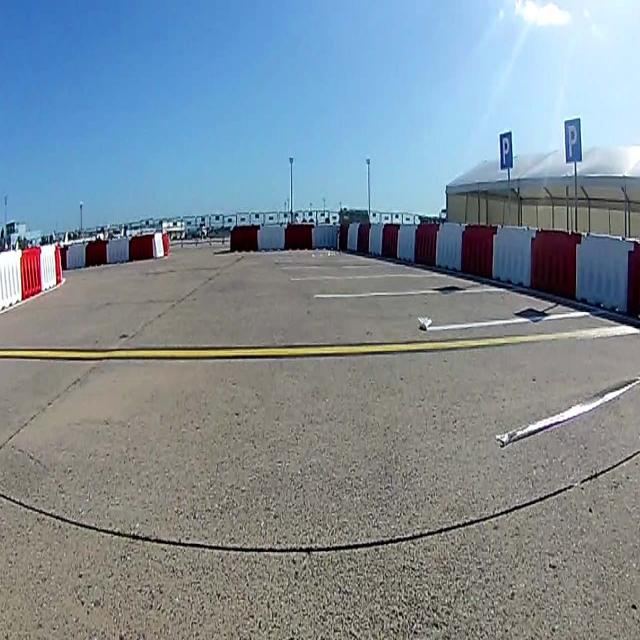park: (564, 118, 582, 164), (499, 130, 513, 170)
